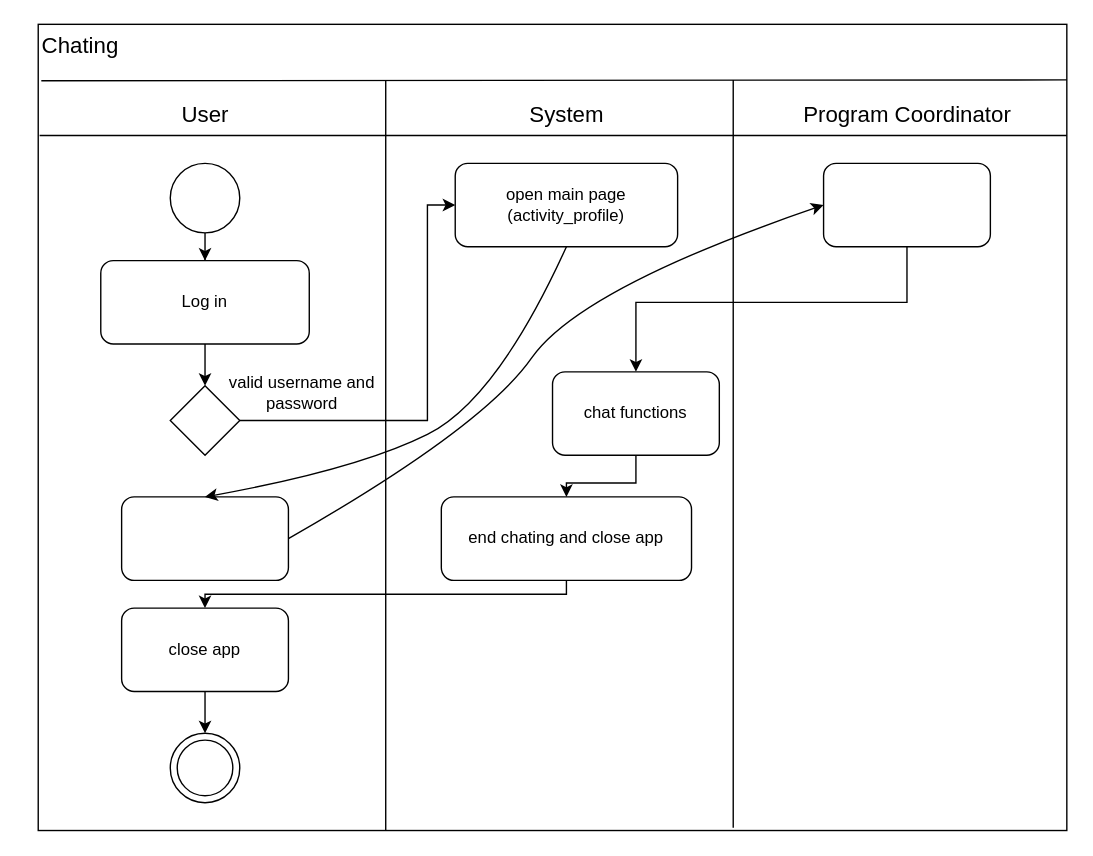
Image size: 1093x856. Some labels were removed from this diagram. Each missing label, with the centre of its shape:
"get chats from DB" belongs at point 906,204.
"gone to chats" belongs at point 204,538.
